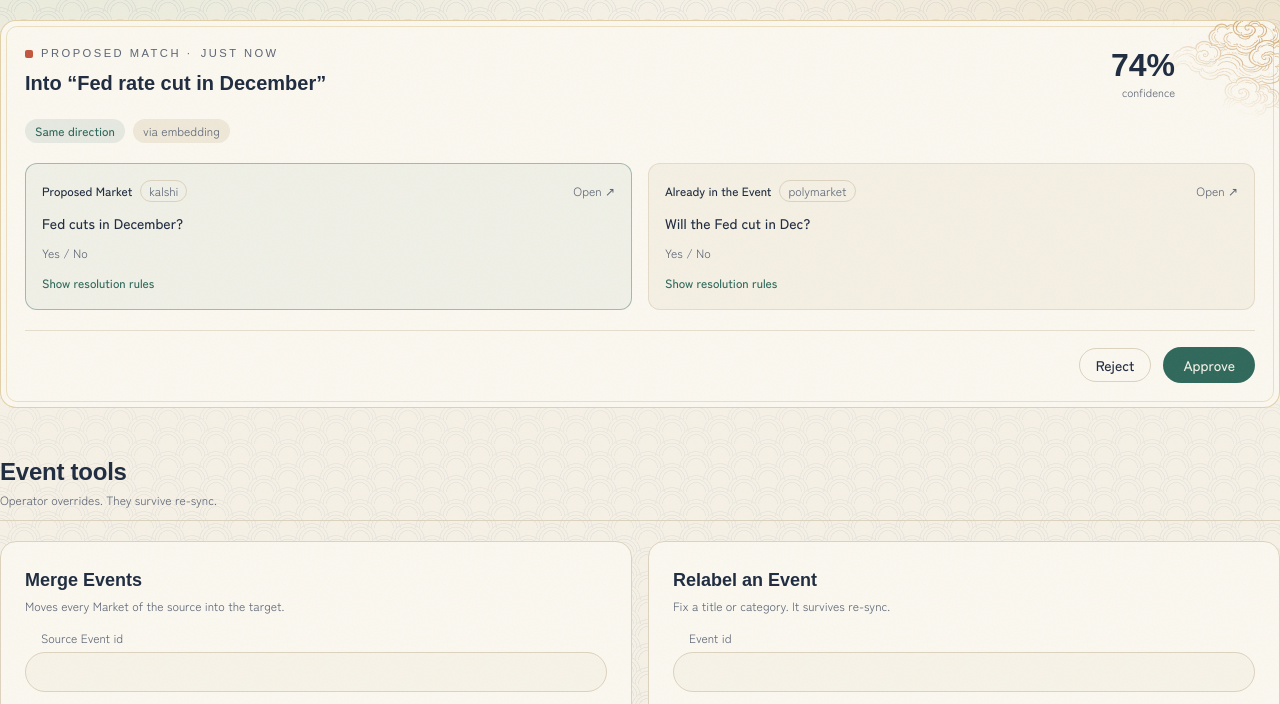
Test: AdminConsole › approves a match through the admin API and drops it from the queue
The width and height of the screenshot is (1280, 704).
(page scrolled)
Expected: the text "74%" is shown, x1=1111 y1=45 x2=1175 y2=85
Click the button "Approve".
click(1209, 365)  # box x1=1164 y1=347 x2=1255 y2=383
(page scrolled)
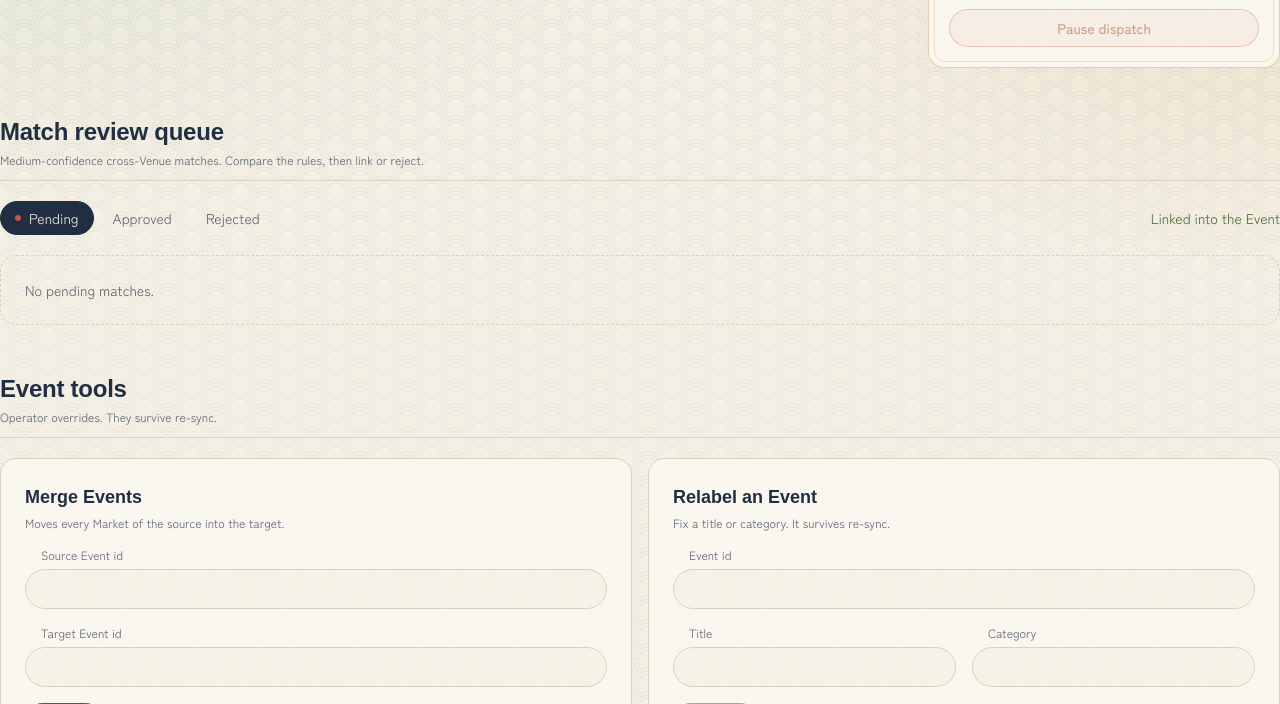
Now the text "Linked into the Event" is shown, box x1=1151 y1=208 x2=1279 y2=228
Now the text "No pending matches." is shown, box x1=0 y1=255 x2=1279 y2=325
